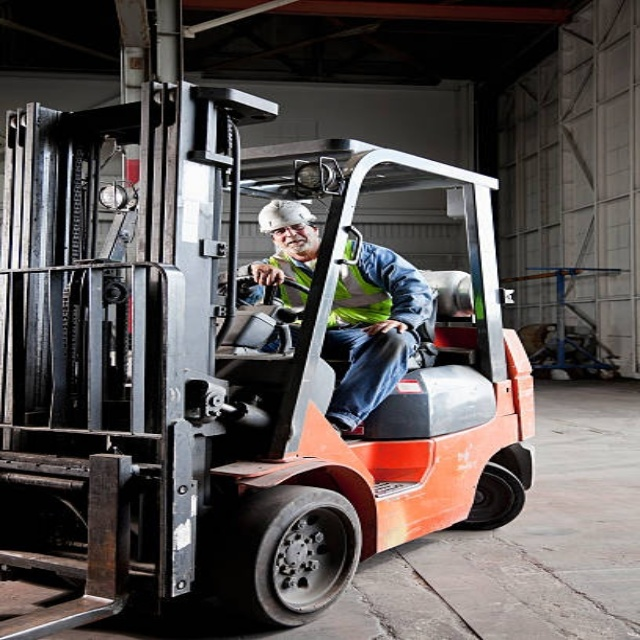Sin_gafas: (270, 221, 306, 237)
Sin_guantes: (249, 262, 287, 286), (362, 320, 407, 338)
Sin_mascara: (287, 236, 312, 255)
